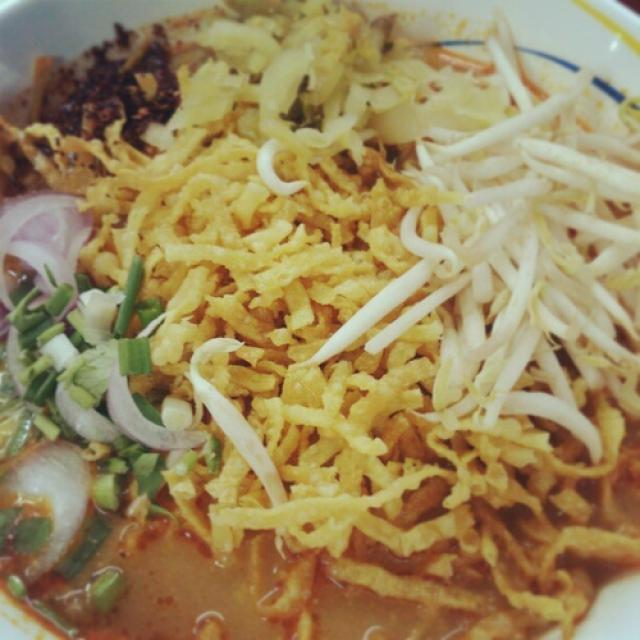面条主食: (18, 16, 627, 628)
